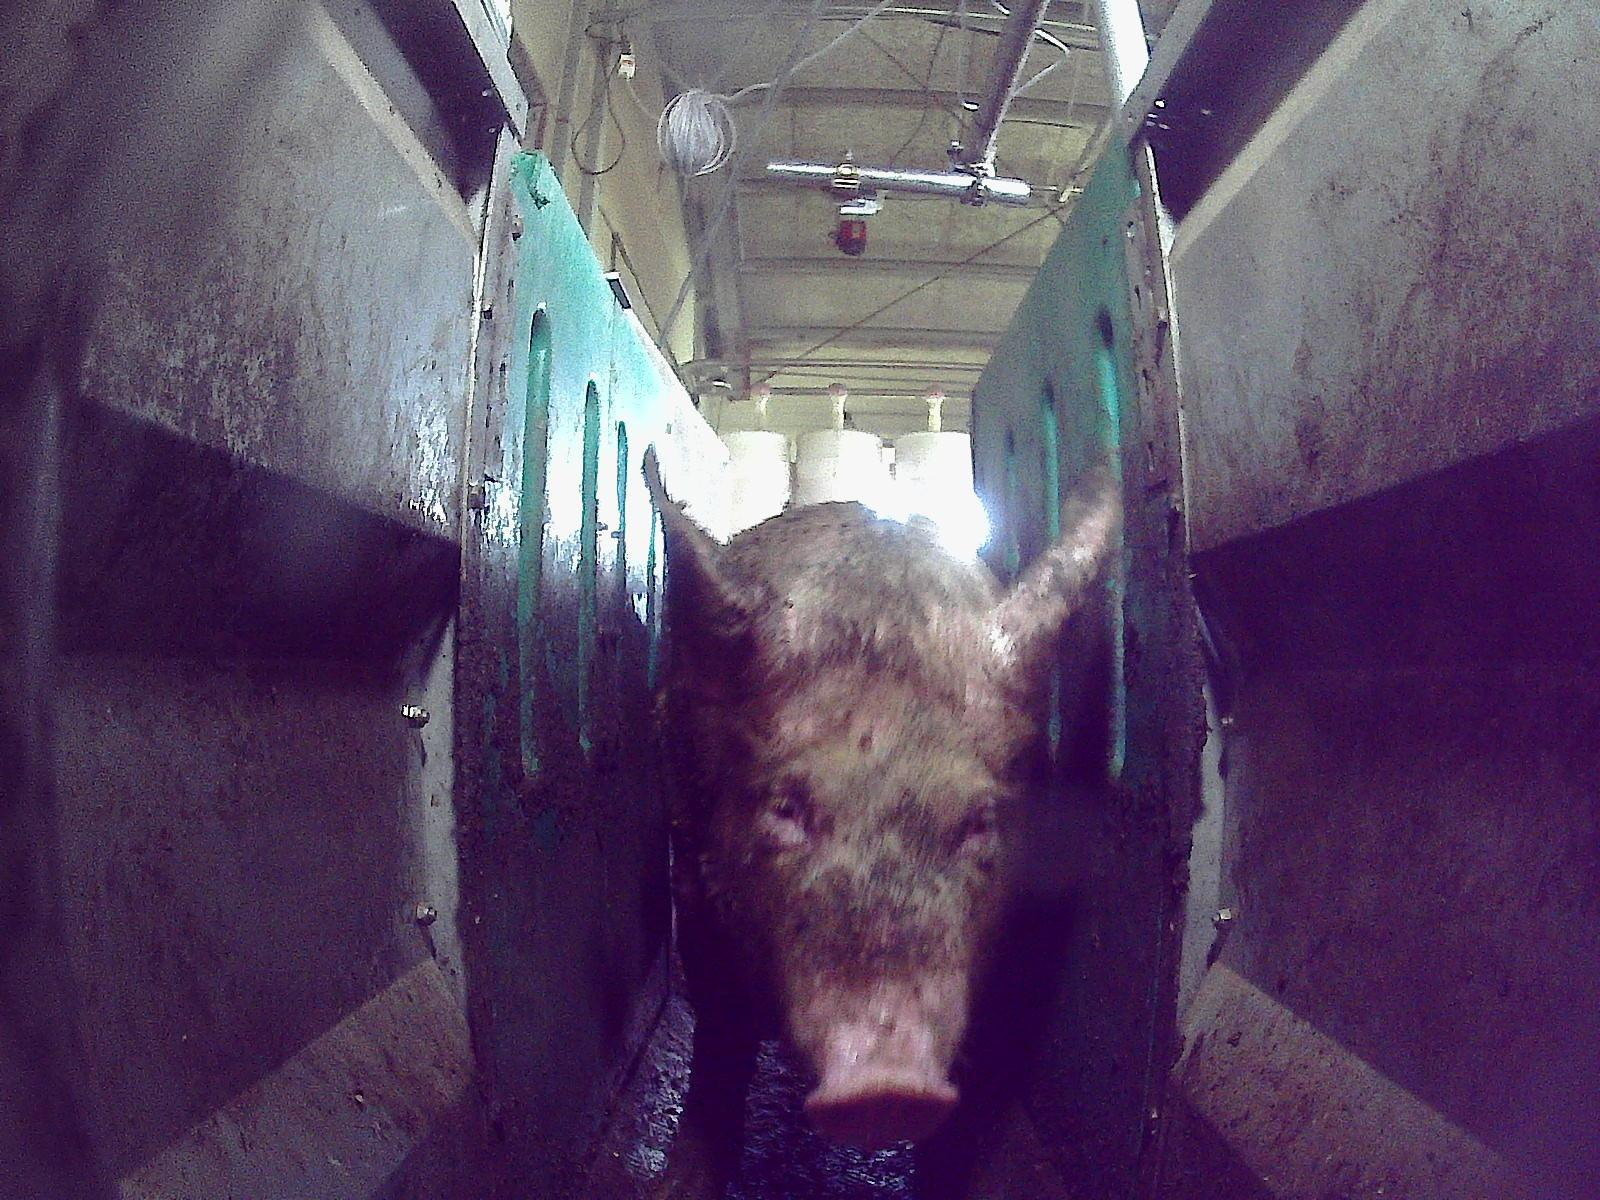Face: (723, 655, 1007, 1145)
